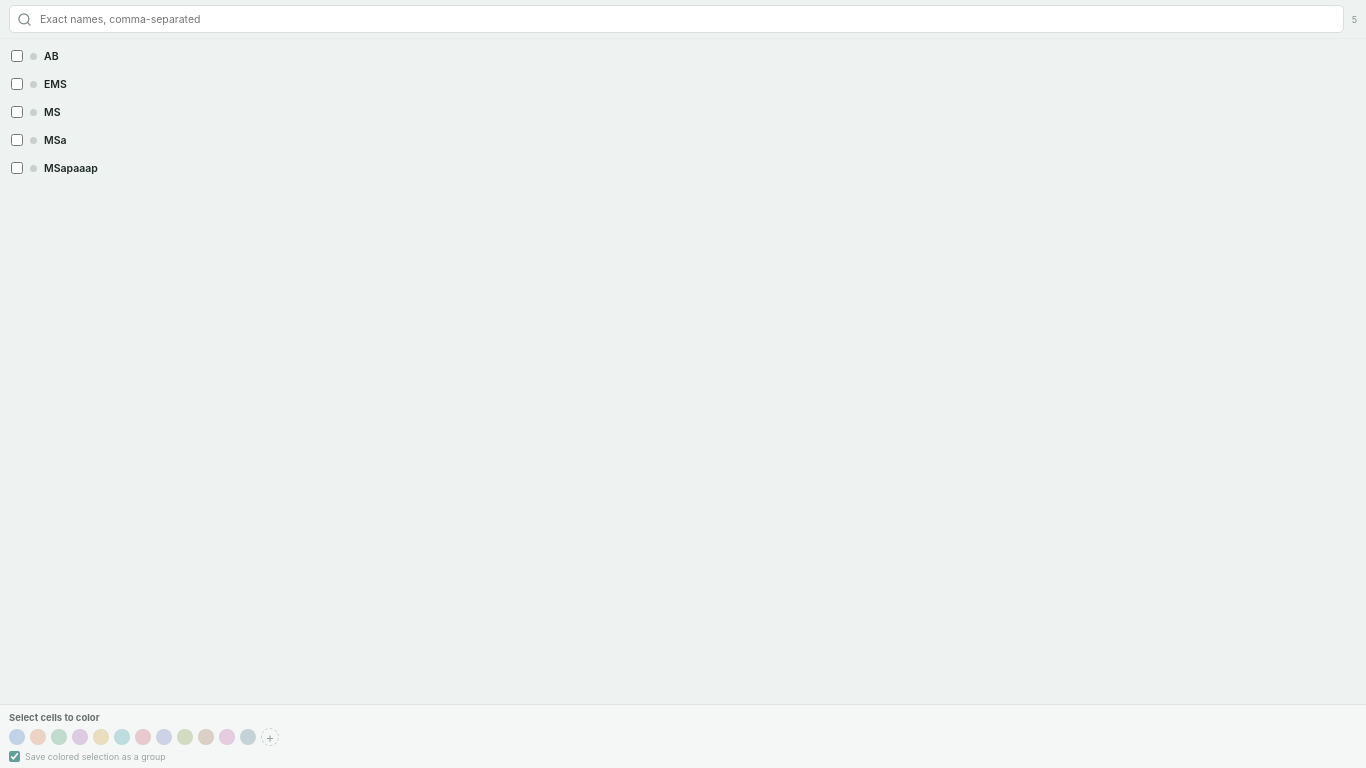
Test case: cell-list exact multi-search › accepts a case-insensitive comma list, selects all matches, and warns without hiding them
Type "msapaaap, eMs, not-a-cell, MSAPAAAP" into the field named "Search cells" at {"x": 687, "y": 19}, box top-left (38, 12), bottom-right (1336, 26)
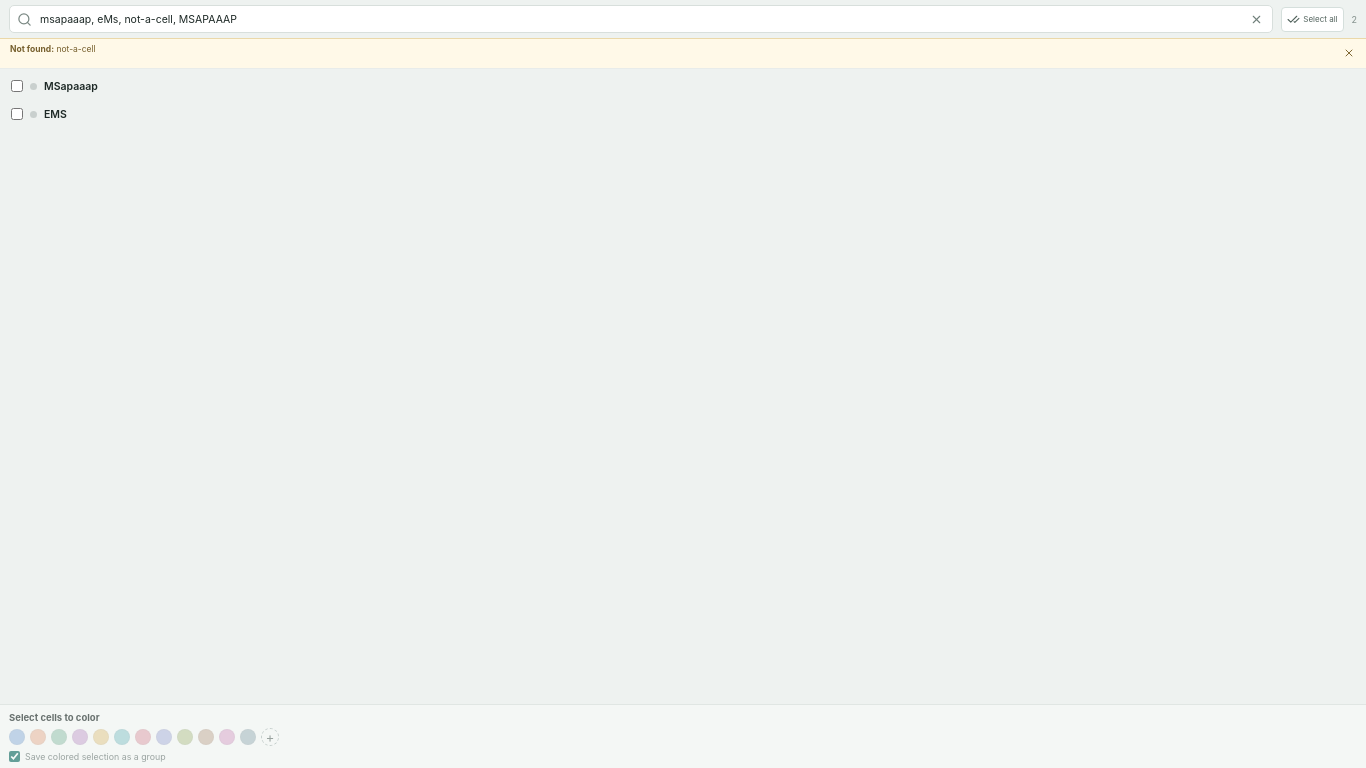
Now the message reads "Not found: not-a-cell", box top-left (0, 38), bottom-right (1365, 68)
Click the button "Select all" at {"x": 1312, "y": 19}, box top-left (1281, 6), bottom-right (1344, 32)
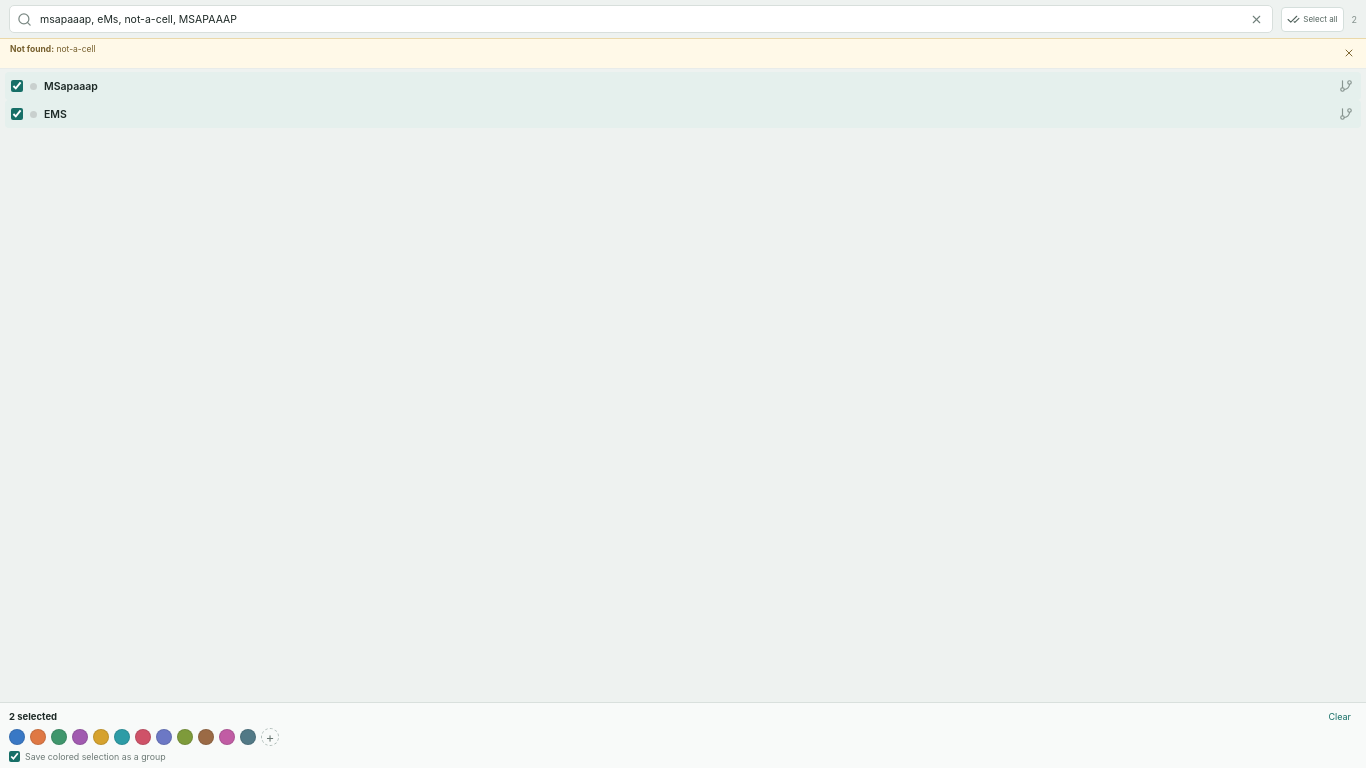
Click the button named "Dismiss missing-cell warning" at {"x": 1349, "y": 53}, box top-left (1340, 44), bottom-right (1358, 62)
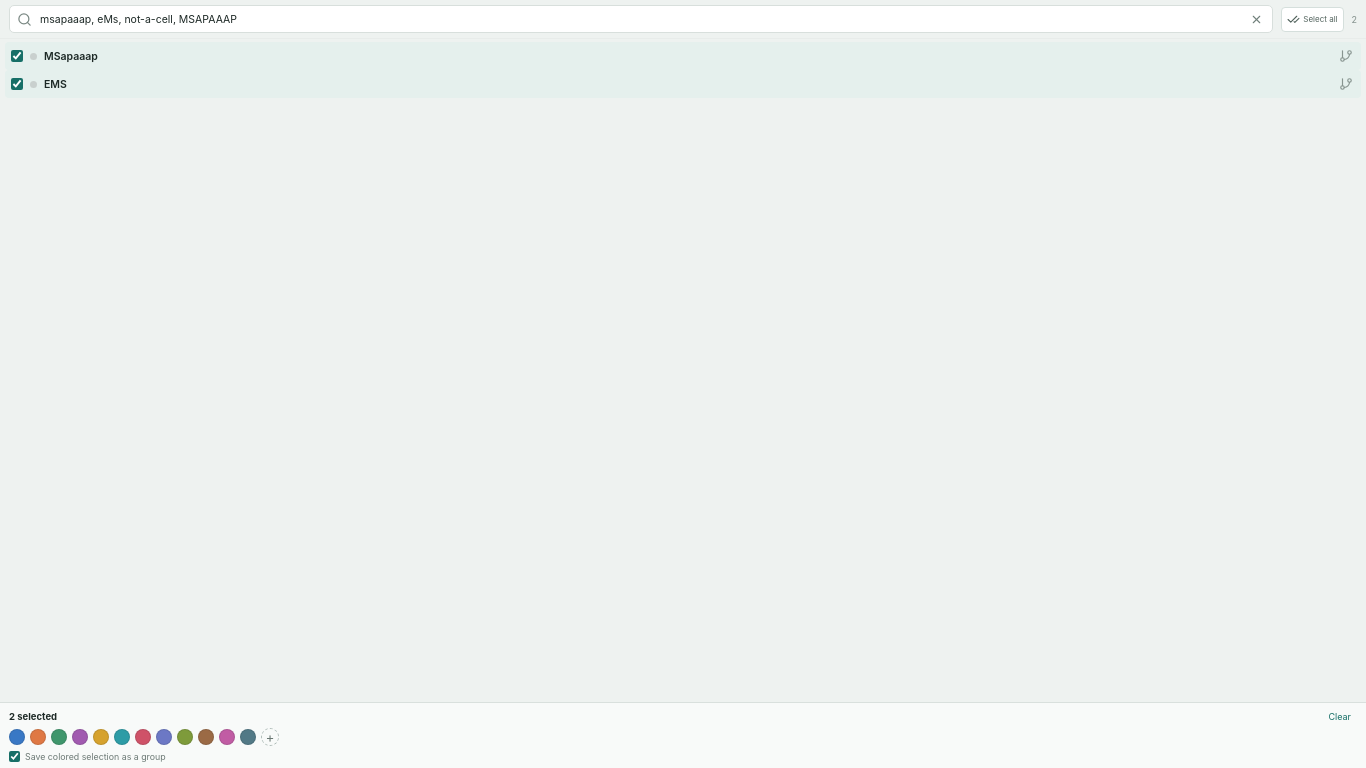
Now the message "Not found: not-a-cell" is gone
